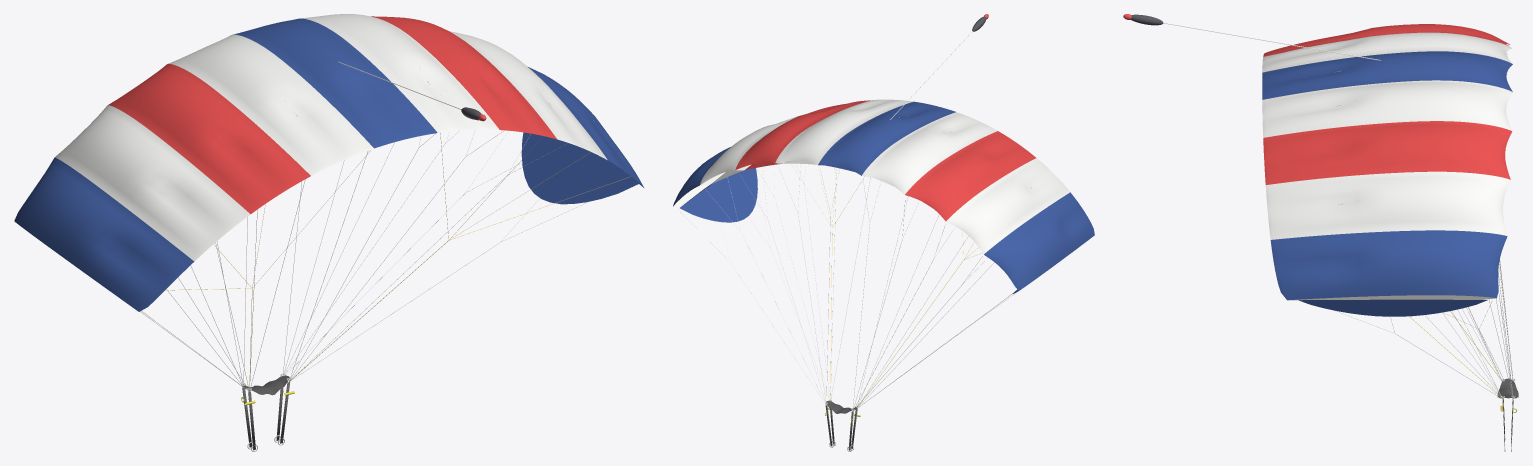
File: PD_Sabre3_150.glb
The picture shows the model from 3 angles, left to right: view 1: azimuth 30°, elevation 25°; view 2: azimuth 150°, elevation 25°; view 3: azimuth 270°, elevation 25°; orthographic projection. The views are drawn at different scales.
Parts seen in each view (by area): view 1: TopSkin, Stabilizers, Lines, SteeringLines, Risers; view 2: TopSkin, Lines, Stabilizers, BottomSkin, Risers; view 3: TopSkin, Stabilizers, Lines, Ribs, PilotChute.
Part boxes in pixels (x1,y1,x2,y2): TopSkin: (14,14,643,311); Stabilizers: (521,132,638,204); Lines: (140,130,585,391); SteeringLines: (165,133,630,401); Risers: (241,376,294,451); TopSkin: (673,99,1094,290); Lines: (680,165,1016,411); Stabilizers: (680,168,1018,293); BottomSkin: (682,160,933,208); Risers: (825,401,860,451); TopSkin: (1262,24,1512,300); Stabilizers: (1299,299,1487,316); Lines: (1336,55,1513,398); Ribs: (1289,44,1510,300); PilotChute: (1123,14,1380,60).
Size of the model in its own units: 5.17 by 4.54 by 3.77.
